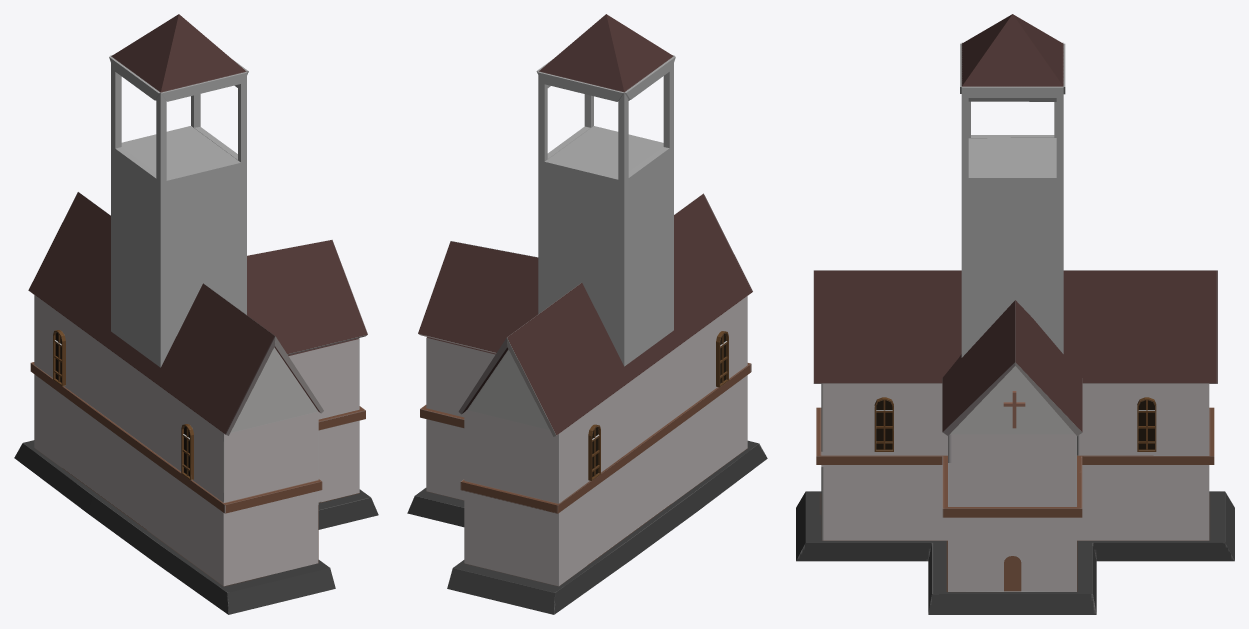
The model's file is IgrejaCutHole.glb.
The picture shows the model from 3 angles, left to right: view 1: azimuth 30°, elevation 25°; view 2: azimuth 150°, elevation 25°; view 3: azimuth 270°, elevation 25°; orthographic projection. The views are drawn at different scales.
Parts seen in each view (by area): view 1: Cube, Cube.001, Cube.002, Cone, Plane.003, Plane.002; view 2: Cube, Cube.001, Cube.002, Cone, Plane.003, Plane.002; view 3: Cube, Cube.001, Cube.002, Cone, Plane.001, Plane.
Part boxes in pixels (left/top/right/bottom): Cube: left=14, top=295, right=378, bottom=614; Cube.001: left=28, top=192, right=367, bottom=435; Cube.002: left=109, top=55, right=248, bottom=367; Cone: left=111, top=14, right=246, bottom=92; Plane.003: left=53, top=330, right=65, bottom=386; Plane.002: left=181, top=424, right=193, bottom=480; Cube: left=407, top=296, right=767, bottom=614; Cube.001: left=418, top=193, right=752, bottom=436; Cube.002: left=536, top=55, right=675, bottom=366; Cone: left=539, top=14, right=673, bottom=92; Plane.003: left=588, top=424, right=600, bottom=480; Plane.002: left=716, top=331, right=728, bottom=387; Cube: left=796, top=383, right=1234, bottom=614; Cube.001: left=813, top=270, right=1217, bottom=435; Cube.002: left=960, top=42, right=1065, bottom=357; Cone: left=961, top=14, right=1063, bottom=86; Plane.001: left=1137, top=397, right=1156, bottom=451; Plane: left=874, top=397, right=893, bottom=451.
Size of what is drawn, in the model's own units: 4.56 by 10.27 by 7.83.
Materials: 6 (6 with a texture image).
